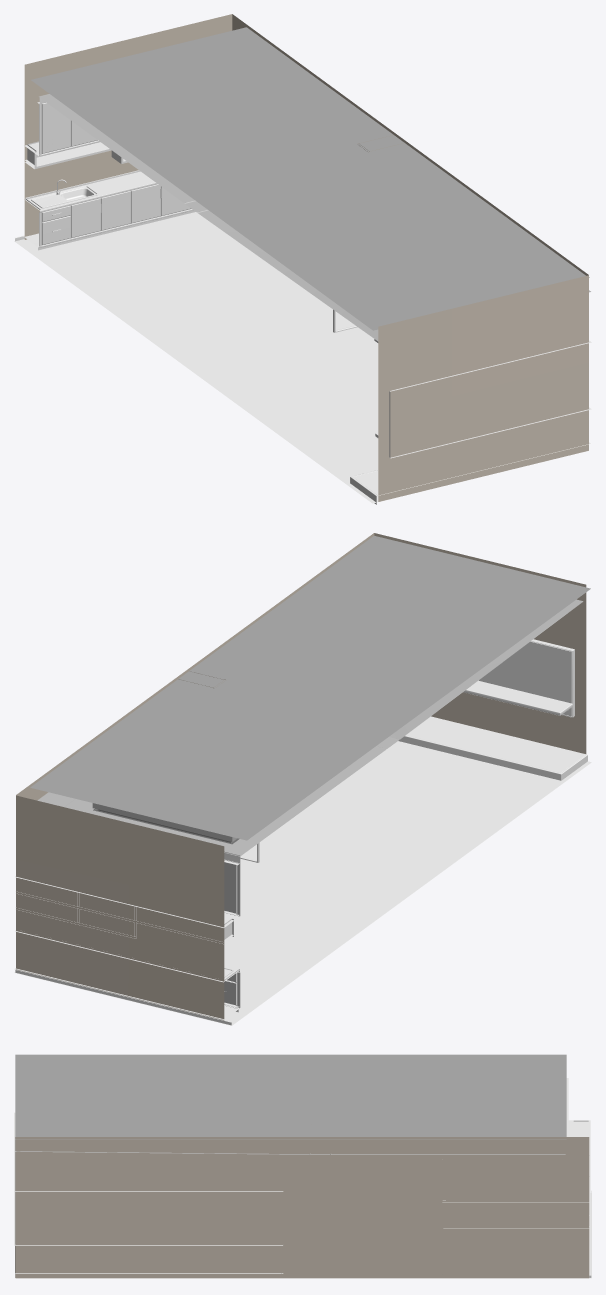
3 views of the same model, one above another, from view 1: azimuth 30°, elevation 25°; view 2: azimuth 150°, elevation 25°; view 3: azimuth 270°, elevation 25° (orthographic). The views are drawn at different scales.
Parts seen in each view (by area): view 1: SM_H_Building_FutureTech_CtControl_01_InterWall_10B; view 2: SM_H_Building_FutureTech_CtControl_01_InterWall_10B; view 3: SM_H_Building_FutureTech_CtControl_01_InterWall_10B.
Boxes of the visible parts, x1,y1,x2,y2 form: SM_H_Building_FutureTech_CtControl_01_InterWall_10B: (14,14,591,504); SM_H_Building_FutureTech_CtControl_01_InterWall_10B: (14,533,591,1025); SM_H_Building_FutureTech_CtControl_01_InterWall_10B: (14,1054,591,1278).
Bounding box in the file's own units: 583 × 205 × 159.
